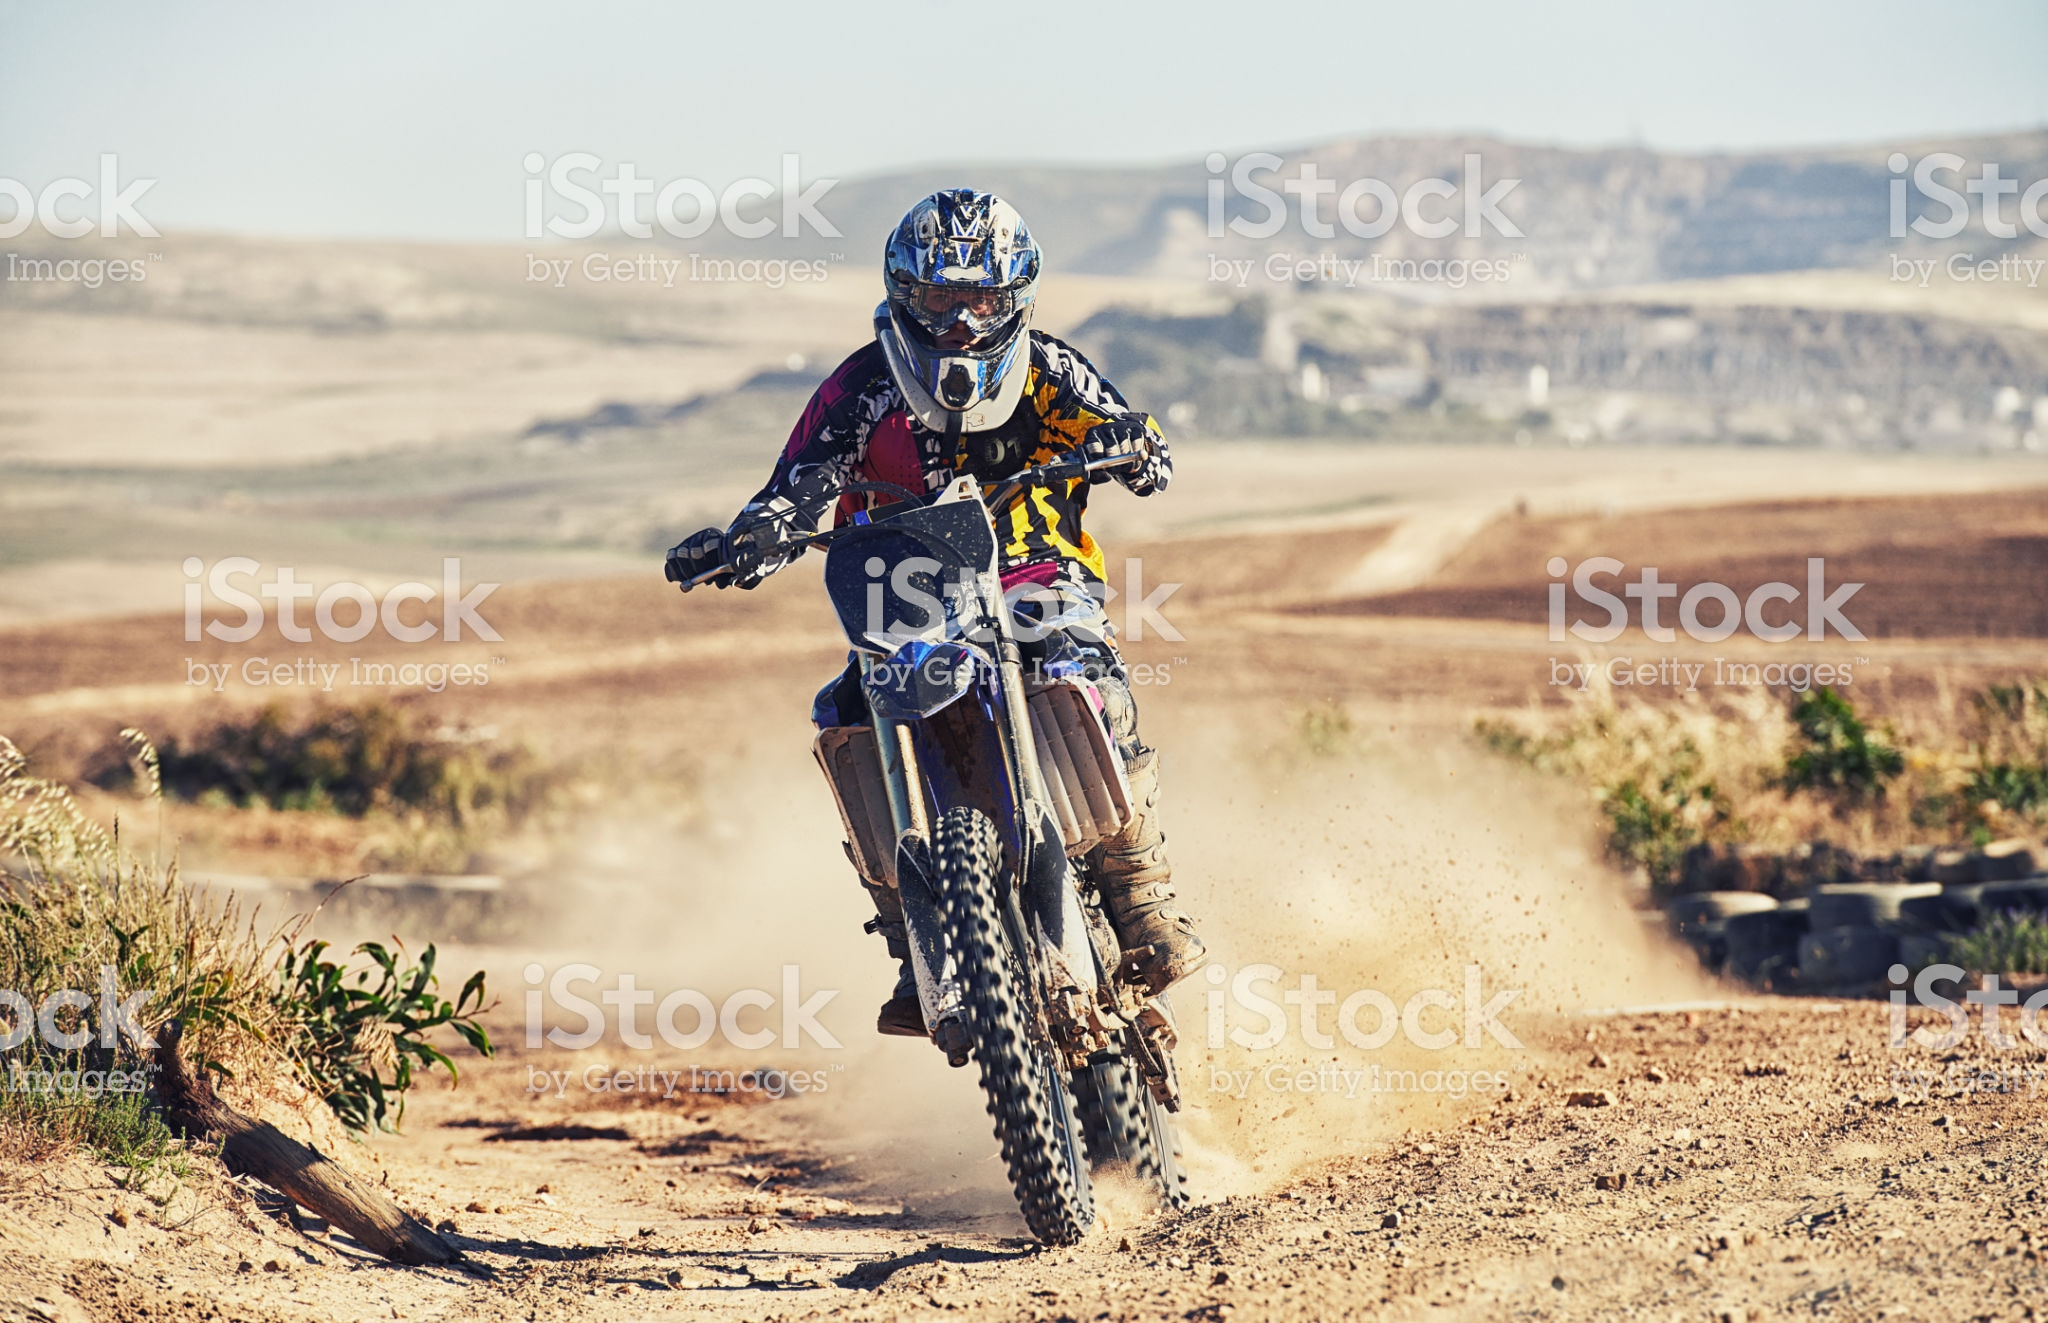helmet: (885, 155, 1052, 430)
